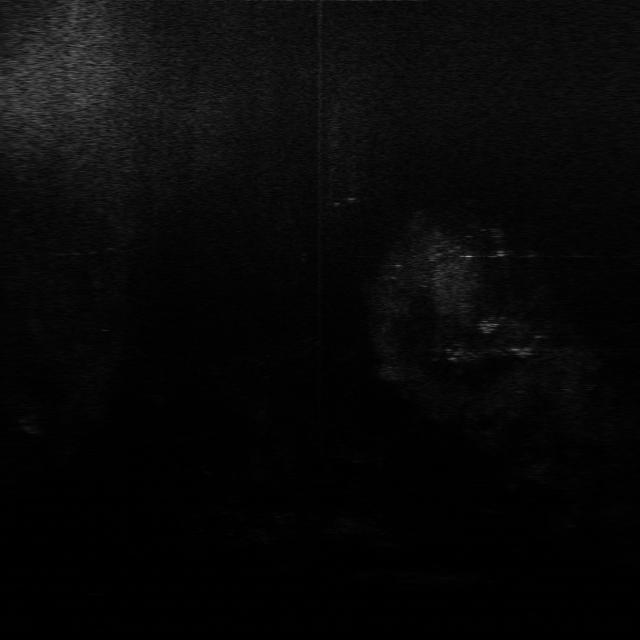rov: (476, 319, 500, 337)
